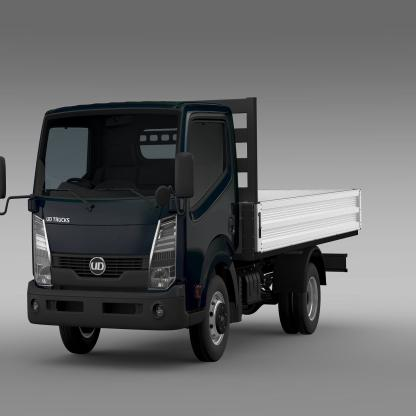dump_truck: (18, 83, 371, 358)
